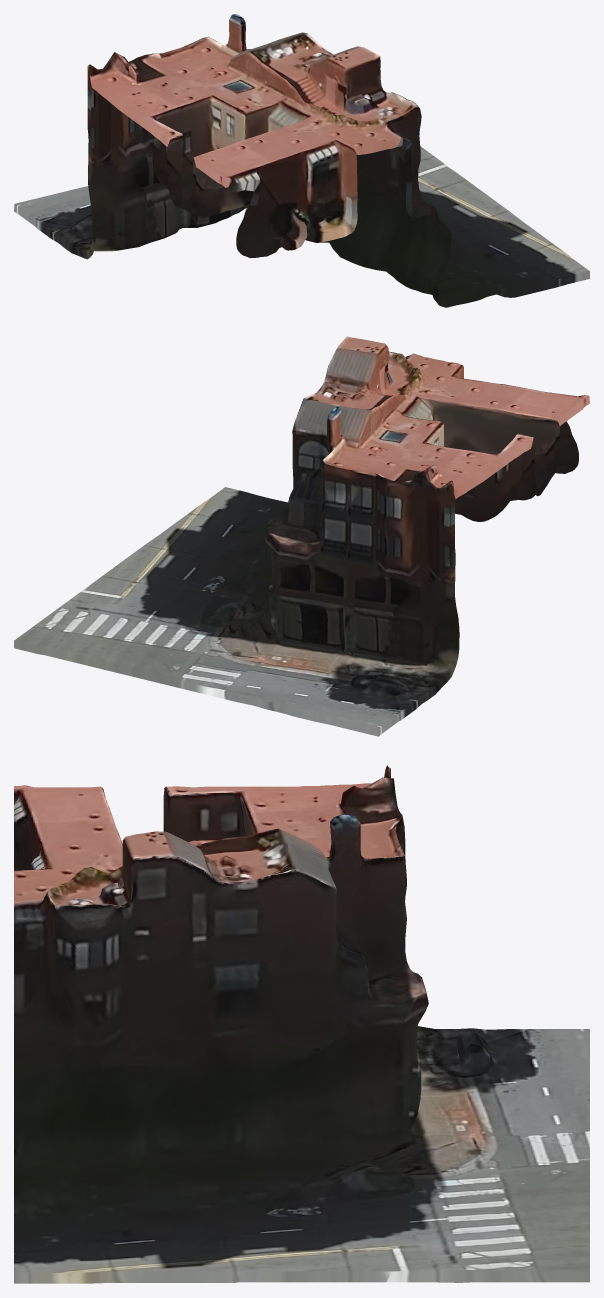
The model's file is z20-167776-405208-h0-yup-uvflip-v3-world.glb.
3 renders of one model, top to bottom at view 1: azimuth 30°, elevation 25°; view 2: azimuth 150°, elevation 25°; view 3: azimuth 270°, elevation 25°, orthographic. The views are drawn at different scales.
Bounding box in the file's own units: 30.2 × 18.4 × 30.32.
Materials: 1 (1 with a texture image).
